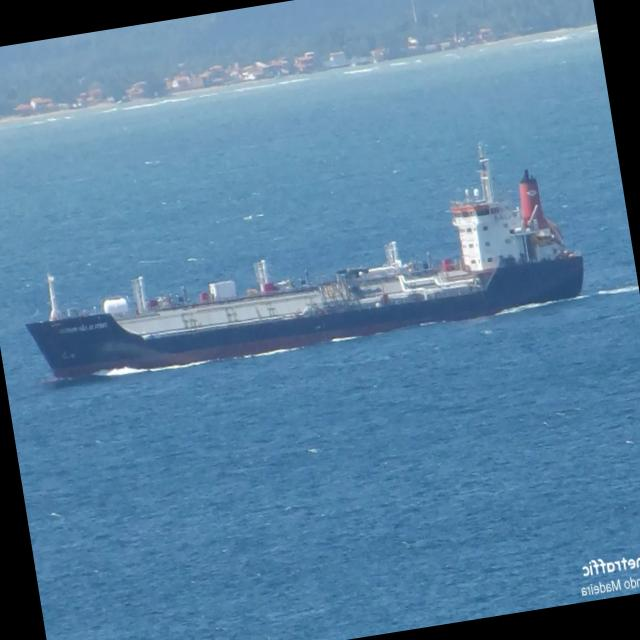Tanker: (27, 145, 584, 378)
